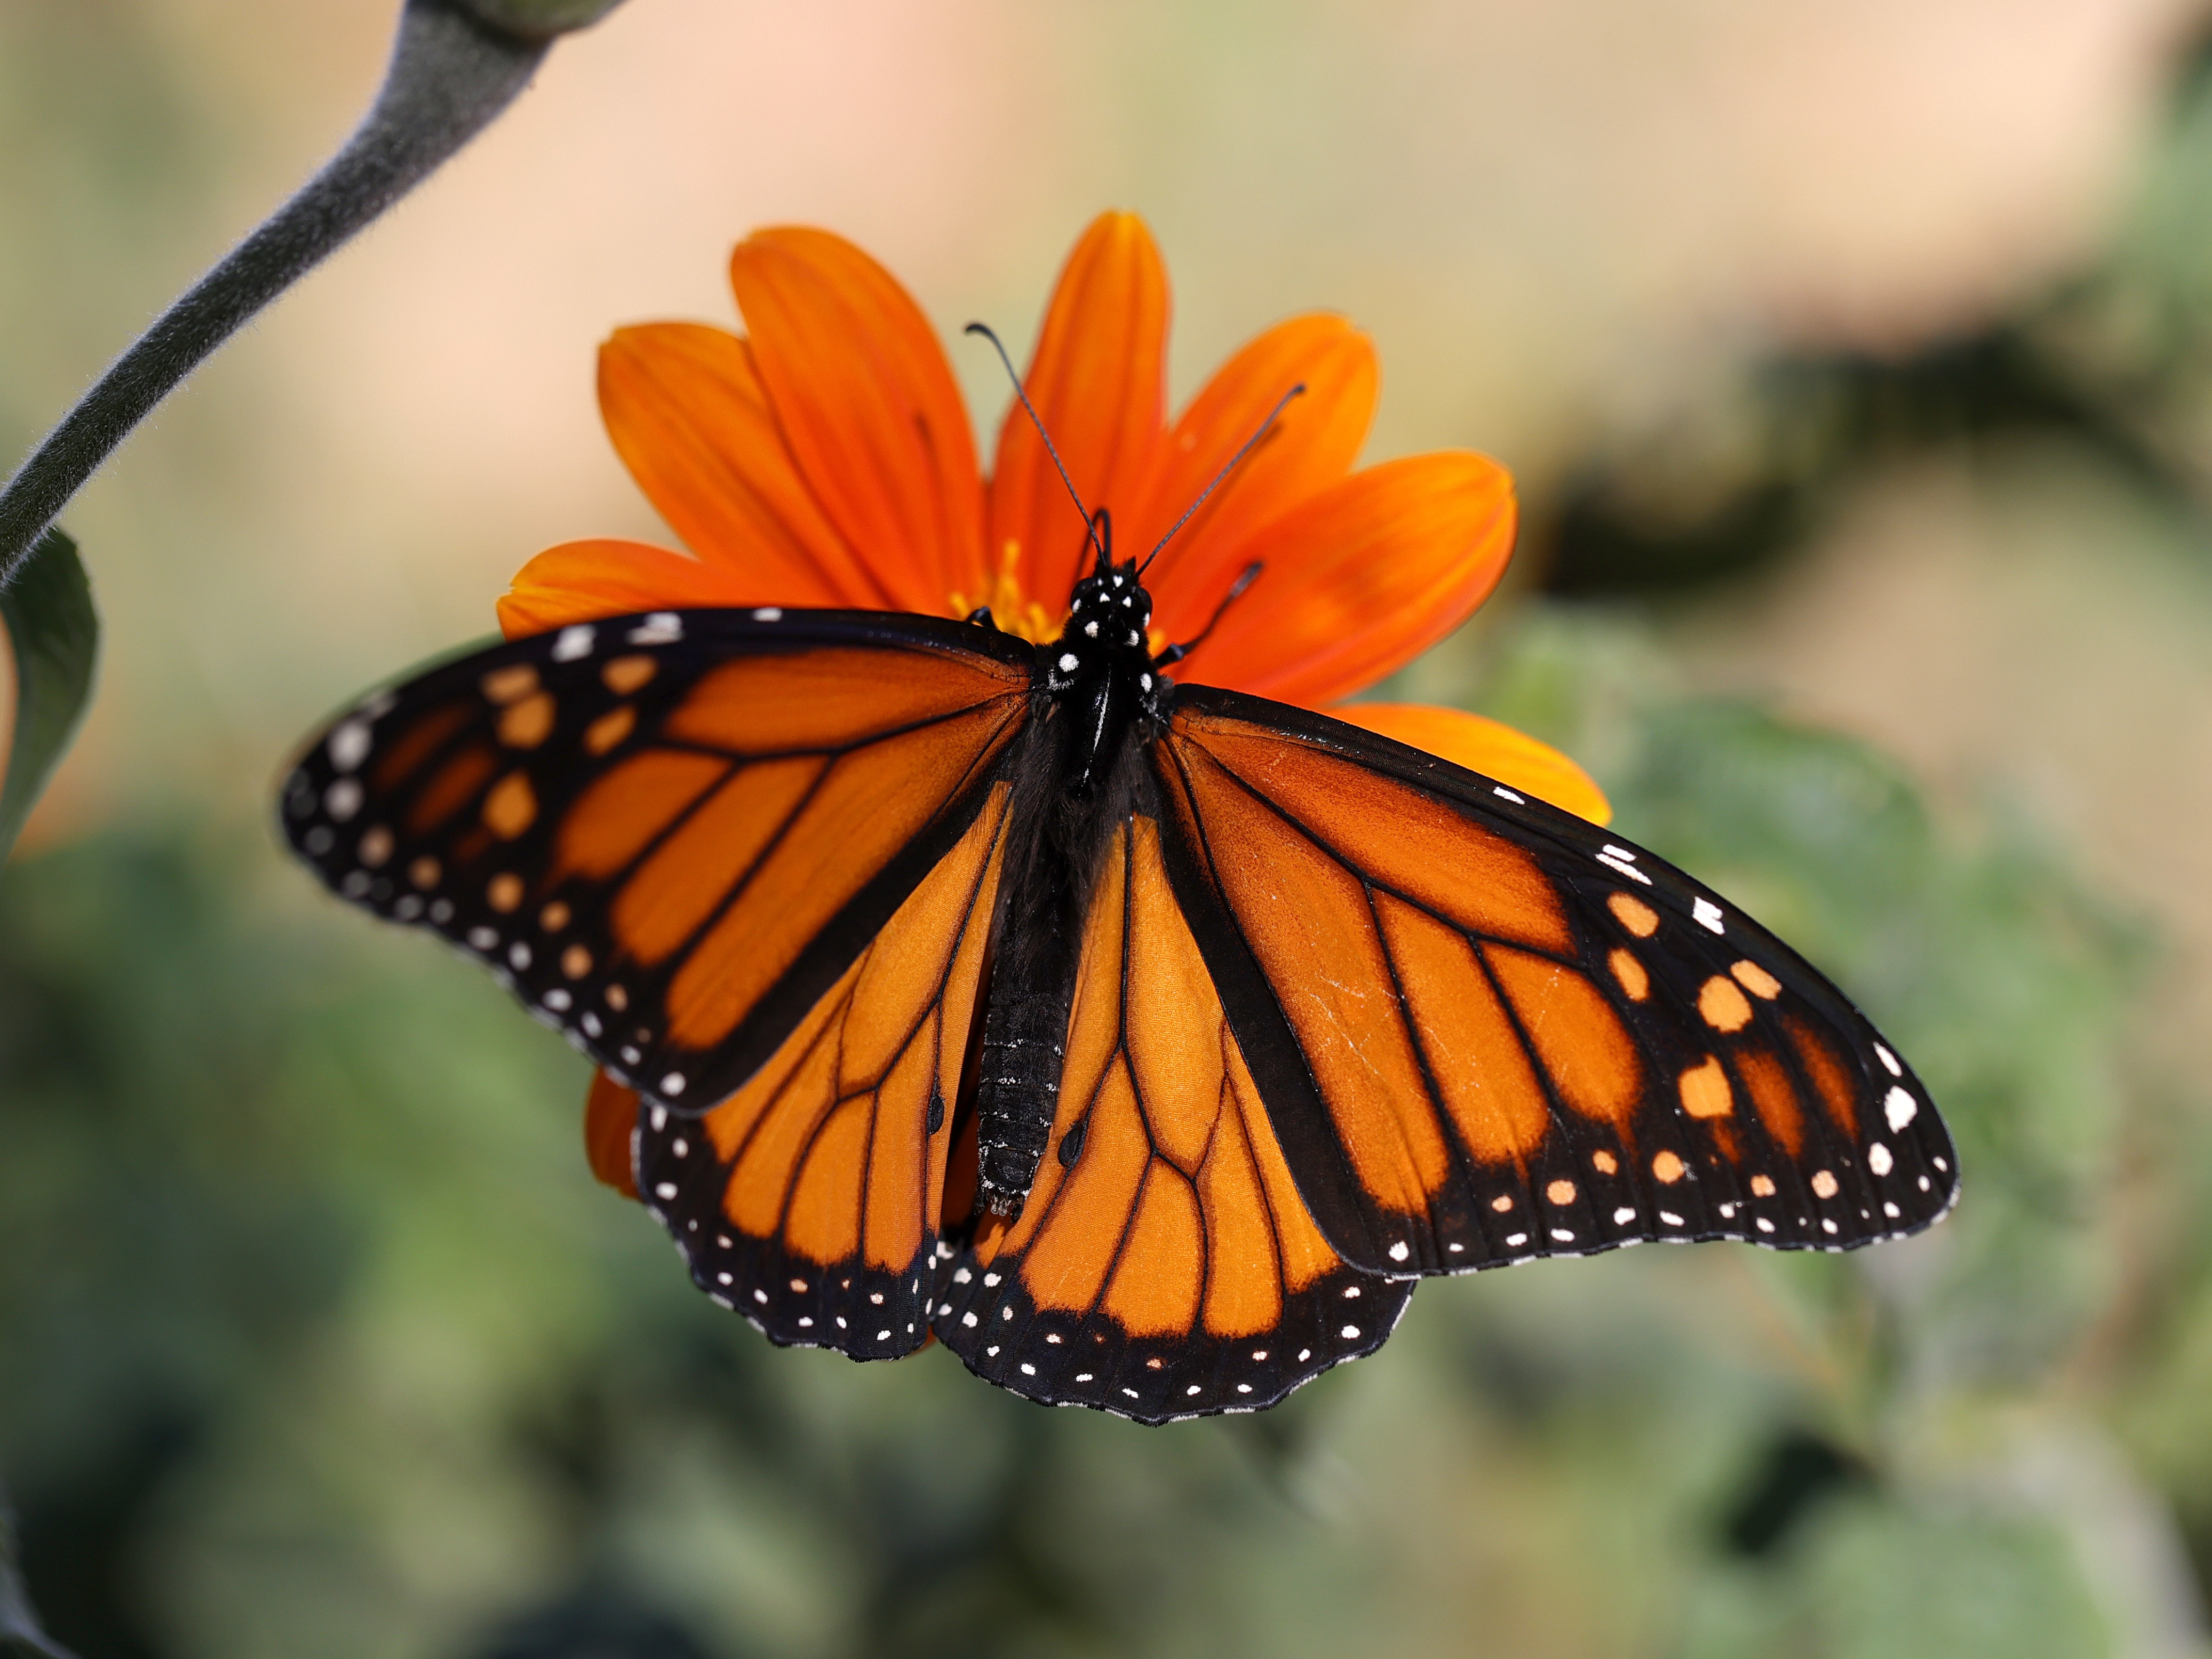Butterfly: (296, 319, 1965, 1419)
